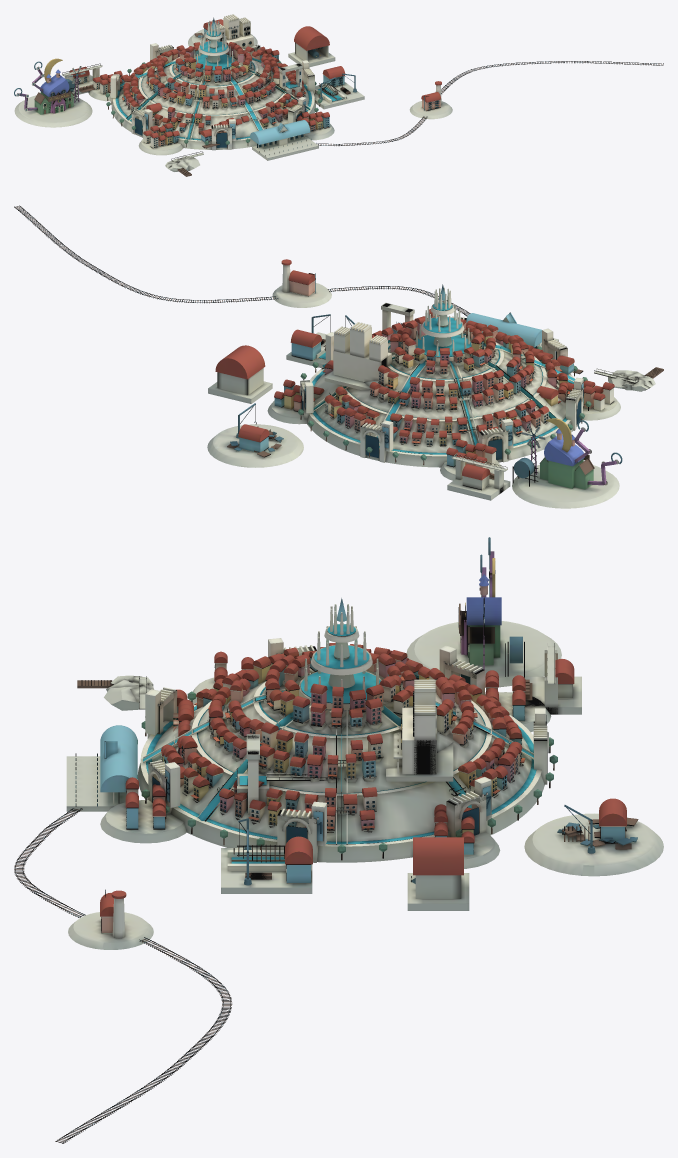
Rendered from water7.glb.
3 views of the same model, one above another, from view 1: azimuth 30°, elevation 25°; view 2: azimuth 150°, elevation 25°; view 3: azimuth 270°, elevation 25° (orthographic). The views are drawn at different scales.
Parts seen in each view (by area): view 1: district-2-2, district--1-0, district-0-3, district-2-5, district-1-3, district-2-3, district-3-3, district-5-3, district-1-2, district-3-4, district-5-1, district-0-0 (+15 smaller); view 2: district-2-2, district--1-0, district-3-1, district-4--1, district-2-1, district-1-1, district-5-1, district-1-2, district-0-0, district-2-0, district-0-3, district-6-5 (+15 smaller); view 3: district-2-2, district-4--1, district--1-0, district-3-2, district-3-1, district-3-3, district-3-4, district-2-5, district-5-3, district-4-3, district-0-0, district-2-1 (+17 smaller).
Boxes of the visible parts, x1,y1,x2,y2 form: district-2-2: (111,17,315,149); district--1-0: (14,58,92,127); district-0-3: (131,107,186,155); district-2-5: (250,120,318,160); district-1-3: (169,70,227,139); district-2-3: (213,61,260,111); district-3-3: (238,60,310,110); district-5-3: (314,66,364,109); district-1-2: (148,53,203,101); district-3-4: (273,97,334,140); district-5-1: (288,26,335,67); district-0-0: (62,63,122,101); district-2-2: (306,284,577,467); district--1-0: (505,418,619,508); district-3-1: (311,322,394,413); district-4--1: (207,403,303,467); district-2-1: (378,338,450,414); district-1-1: (423,361,505,445); district-5-1: (208,345,272,403); district-1-2: (452,334,533,400); district-0-0: (440,429,510,500); district-2-0: (343,395,414,462); district-0-3: (547,369,620,424); district-6-5: (272,270,364,307); district-2-2: (138,598,544,862); district-4--1: (524,798,663,876); district--1-0: (406,558,561,687); district-3-2: (292,683,383,793); district-3-1: (381,679,476,808); district-3-3: (197,691,326,821); district-3-4: (100,748,211,843); district-2-5: (66,725,137,811); district-5-3: (221,822,312,893); district-4-3: (219,751,327,857); district-0-0: (468,643,581,731); district-2-1: (378,653,489,739).
Bounding box in the file's own units: 468 × 76.13 × 242.
1 material, 1 textured.
